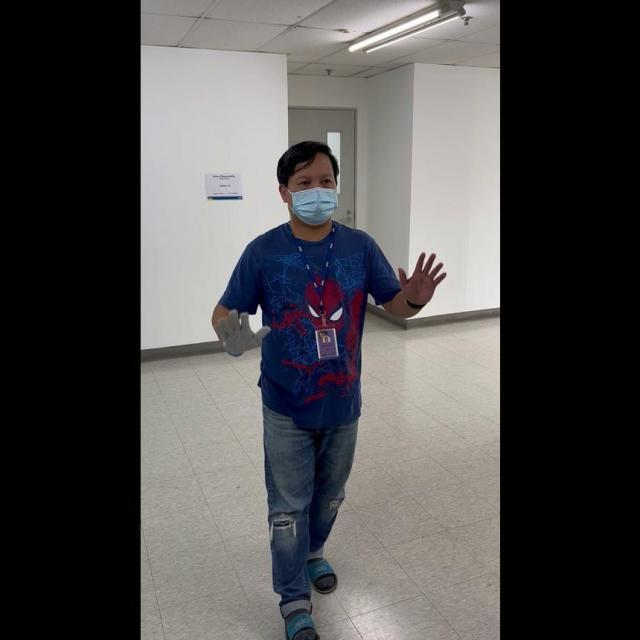bare_hand: (397, 246, 446, 305)
gloved_hand: (214, 302, 271, 356)
